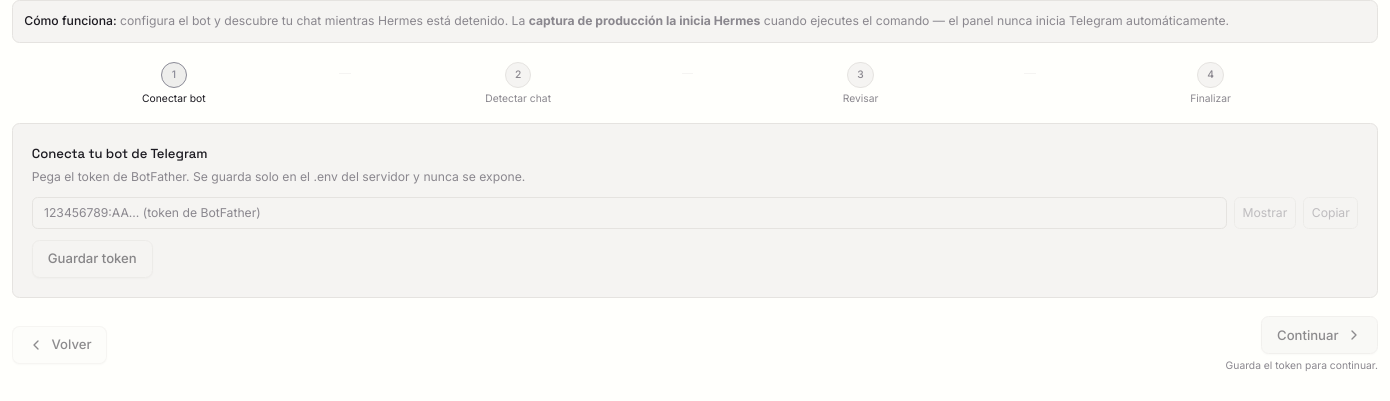
Scenario: IdeaCapturePanel — wizard navigation › keeps Continuar disabled on the token step until a token is saved
Expected: the button "Continuar" is disabled, [1261,316,1378,354]
Expected: the text "Guarda el token para continuar." is shown, [1226,358,1378,373]
Step 1. Type "123:AA" into the password field named "Token del bot" → (629, 213), box [32,197,1227,229]
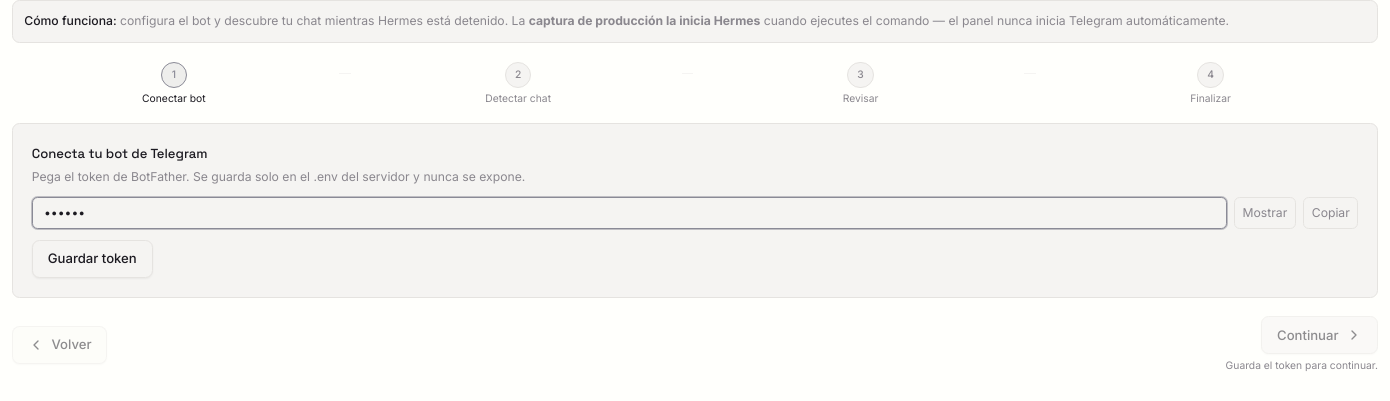
Step 2. Click the button "Guardar token" → (92, 259), box [32,240,153,278]
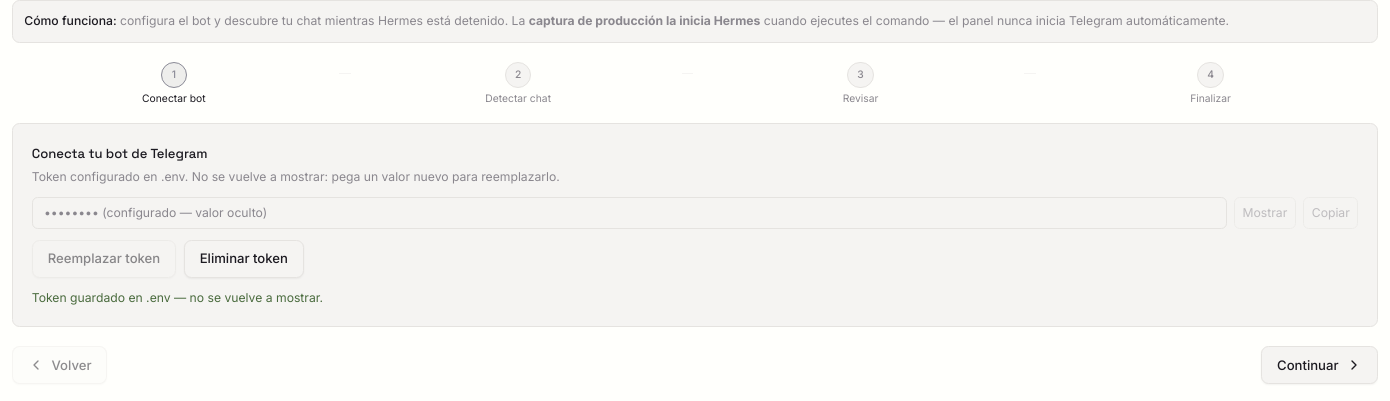
Expected: the button "Continuar" is enabled, [1261,346,1378,384]
